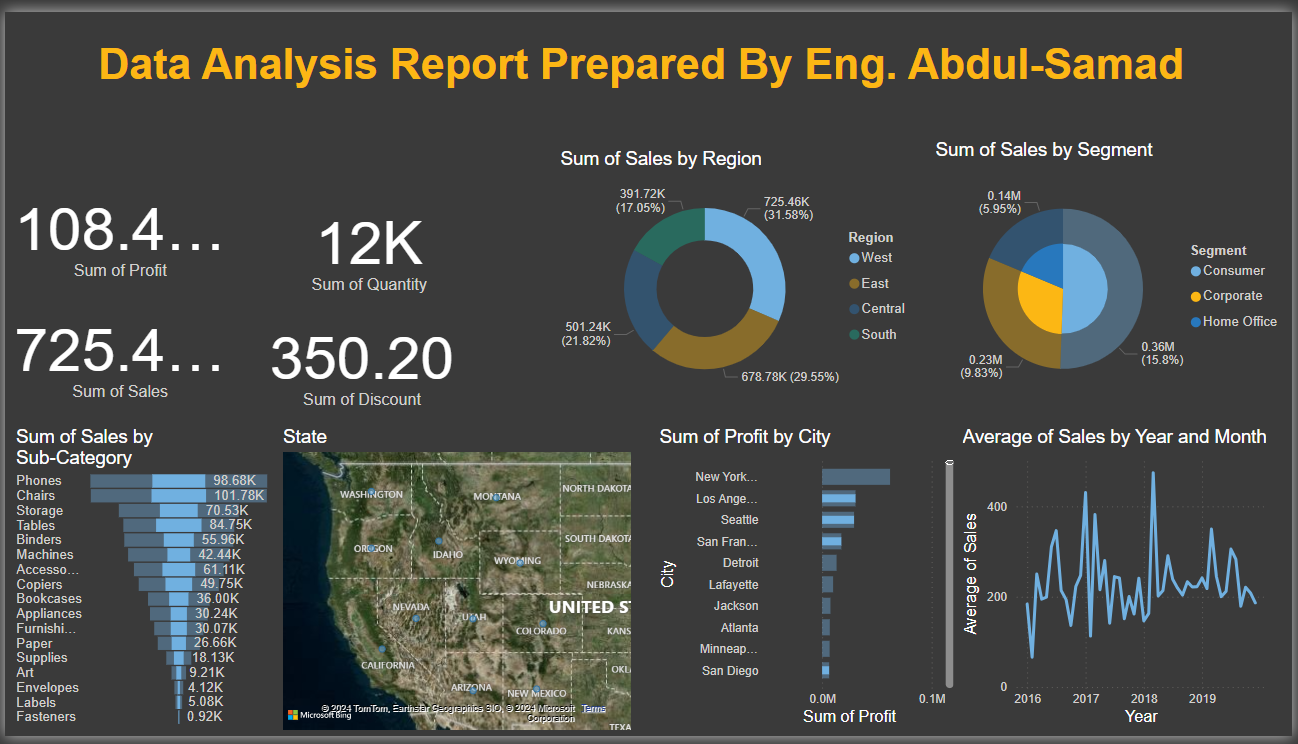

What the dashboard file says about the page in this screenshot:
{"tool":"powerbi","page":{"name":"01_report","canvas":[1280,720],"ordinal":0},"visuals":[{"type":"donutChart","fields":{"Category":["Orders.Region"],"Y":["Sum(Orders.Sales)"]},"box":[547.9,136.1,362.4,257.6],"z":0},{"type":"funnel","fields":{"Category":["Orders.Sub-Category"],"Y":["Sum(Orders.Sales)"]},"box":[6.3,412.7,264.6,302.4],"z":1000},{"type":"clusteredBarChart","fields":{"Category":["Orders.City"],"Y":["Sum(Orders.Profit)"]},"box":[645.8,412.7,302.4,302.4],"z":2000},{"type":"map","fields":{"Category":["Orders.State"]},"box":[270.9,412.7,356,307.1],"z":3000},{"type":"pieChart","fields":{"Category":["Orders.Segment"],"Y":["Sum(Orders.Sales)"]},"box":[921.4,127.6,359.1,275.6],"z":4000},{"type":"lineChart","fields":{"Category":["Orders.Order Date.Variation.Date Hierarchy.Year","Orders.Order Date.Variation.Date Hierarchy.Month"],"Y":["Avg(Orders.Sales)"]},"box":[948.2,412.7,315,302.4],"z":5000},{"type":"card","fields":{"Values":["Sum(Orders.Profit)"]},"box":[0.6,165.2,228.5,107.7],"z":6000},{"type":"card","fields":{"Values":["Sum(Orders.Quantity)"]},"box":[275.7,181.2,171.8,106.3],"z":7000},{"type":"card","fields":{"Values":["Sum(Orders.Discount)"]},"box":[251,287.5,208.1,119.4],"z":8000},{"type":"card","fields":{"Values":["Sum(Orders.Sales)"]},"box":[0.6,272.9,228.5,133.9],"z":9000},{"type":"textbox","box":[3.2,22.1,1260.1,105.5],"z":10000}]}

Visuals, with their boxes in screenshot pixels (x1, y1, x2, y2), scaled from the page's 1280x720 canvas onto the 1298x744 screenshot:
donutChart - Orders.Region x Sum(Orders.Sales): 556 141 923 407
funnel - Orders.Sub-Category x Sum(Orders.Sales): 6 426 275 739
clusteredBarChart - Orders.City x Sum(Orders.Profit): 655 426 962 739
map - Orders.State: 275 426 636 743
pieChart - Orders.Segment x Sum(Orders.Sales): 934 132 1297 417
lineChart - Orders.Order Date.Variation.Date Hierarchy.Year x Orders.Order Date.Variation.Date Hierarchy.Month: 962 426 1281 739
card - Sum(Orders.Profit): 1 171 232 282
card - Sum(Orders.Quantity): 280 187 454 297
card - Sum(Orders.Discount): 255 297 466 420
card - Sum(Orders.Sales): 1 282 232 420
textbox: 3 23 1281 132
